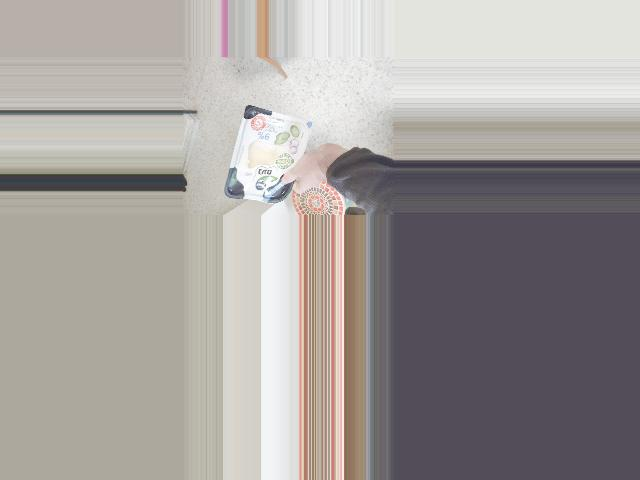cheese: (223, 110, 311, 204)
